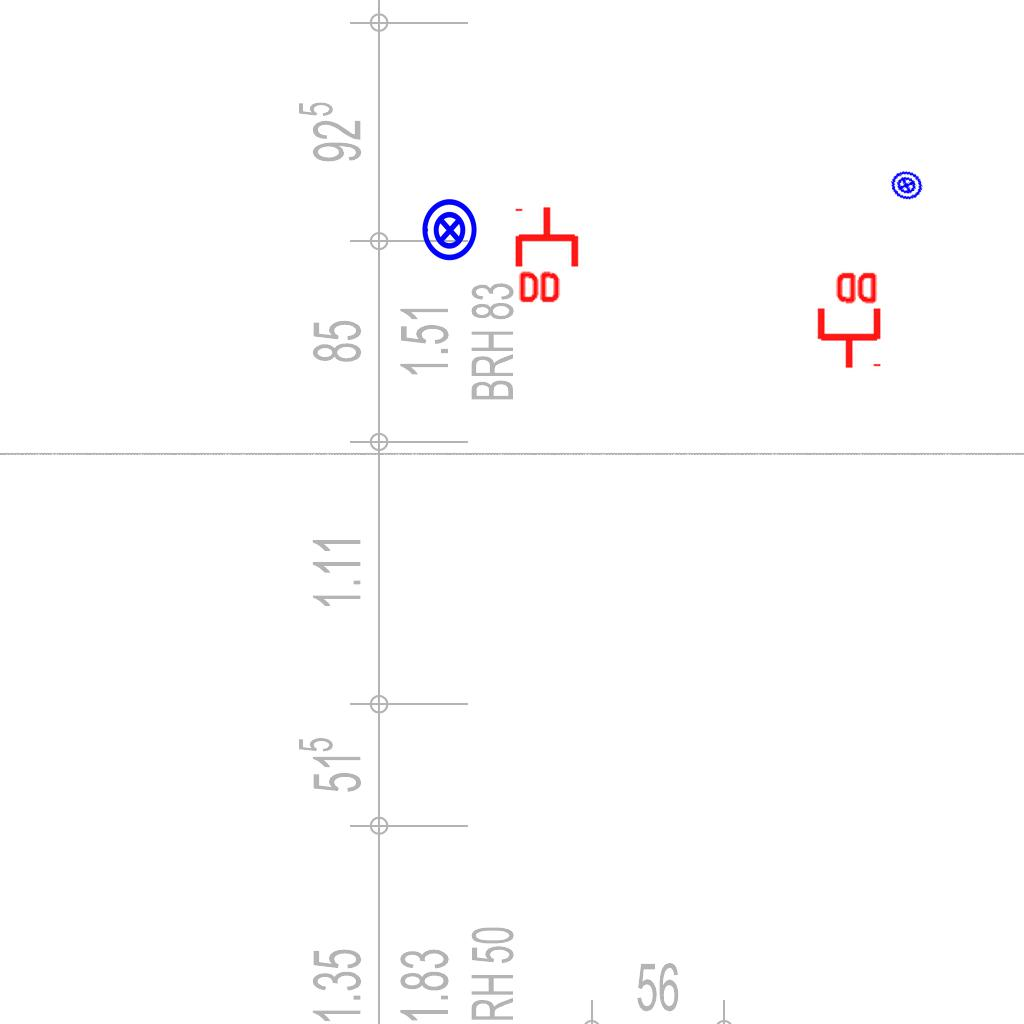Datenanschluss_zweifach: (813, 268, 882, 371), (514, 204, 583, 307)
Taster_beleuchtet: (417, 197, 483, 263), (885, 164, 928, 207)
